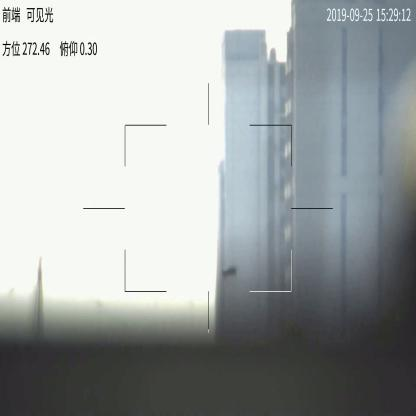uav: (221, 264, 237, 278)
